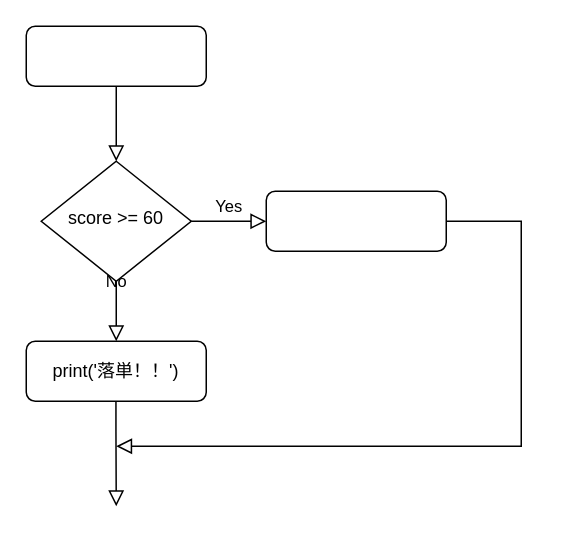
Image size: 563x548. Some labels were removed from this diagram. The shapes that lost their labels are listed below. From the top down, each one's box as (x1, y1, x2, y2) in pixels, then its label:
(25, 25, 206, 86): score = 80
(265, 190, 446, 251): print('合格！！')
